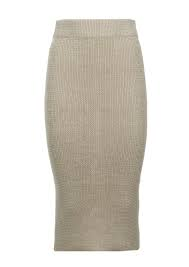C_skirt: (41, 17, 158, 264)
